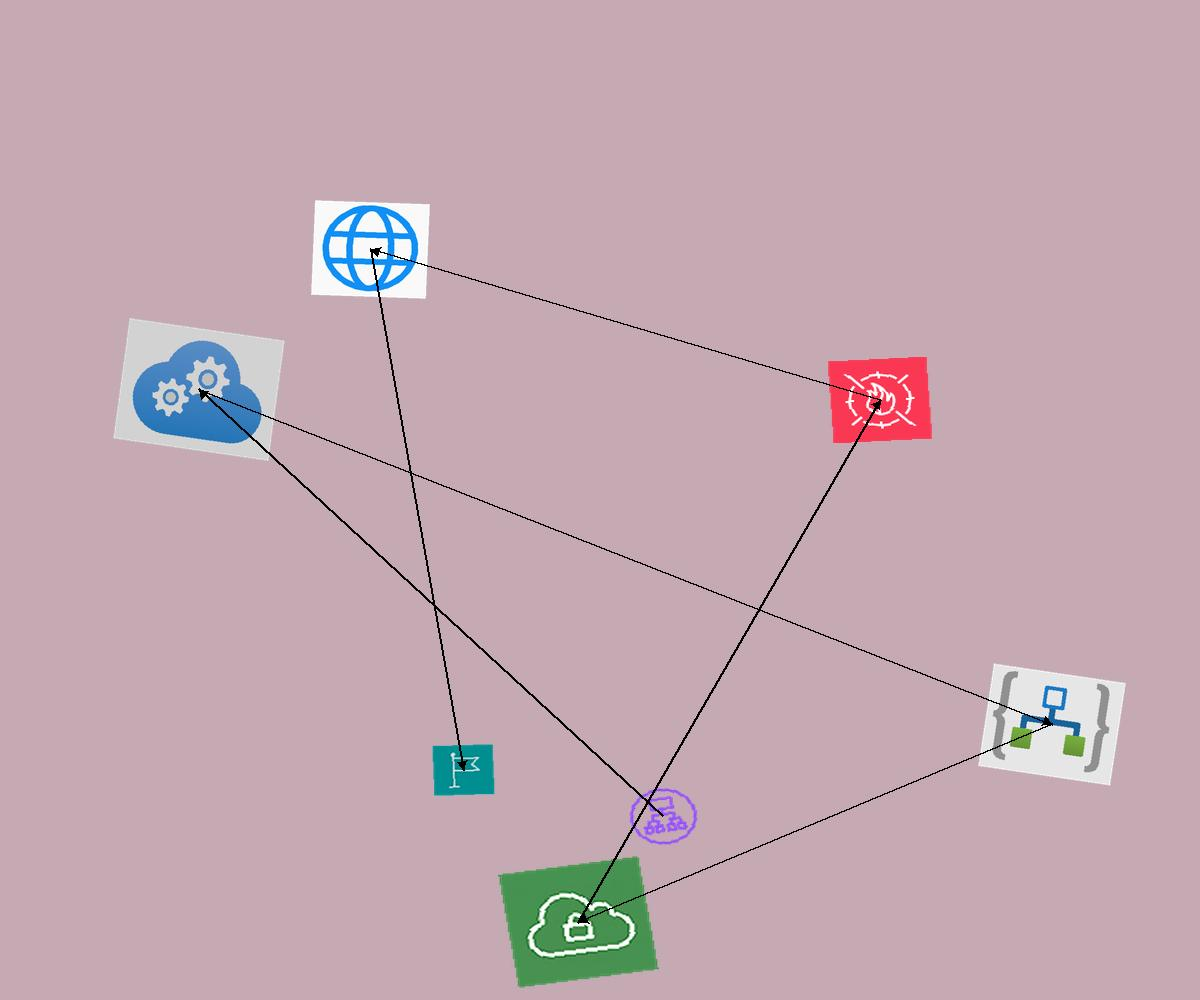AWS-Private_vpc: (498, 855, 659, 989)
AWS-Region: (432, 744, 495, 796)
AWS-Res_Elastic-Load-Balancing_Application-Load-Balancer: (621, 781, 706, 852)
AWS-WAF: (827, 356, 933, 444)
Azure_cloud_services: (113, 318, 285, 461)
Azure_http: (311, 200, 430, 299)
Azure_integration-204-Logic-Apps: (978, 663, 1126, 786)
